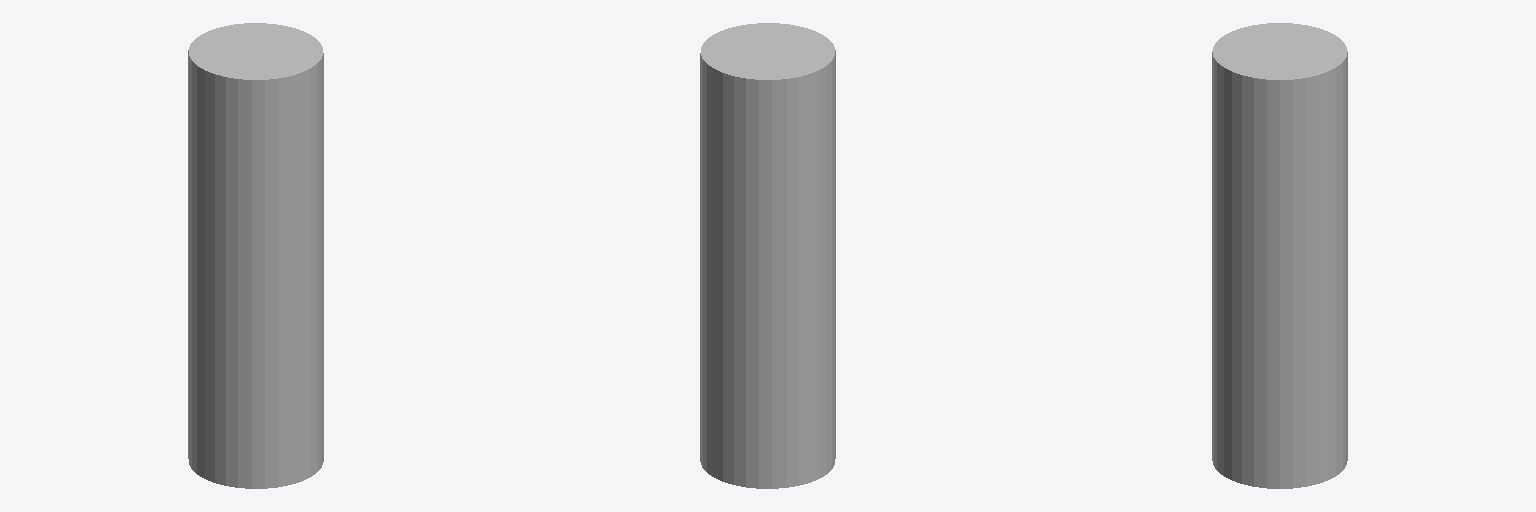
Rendered from sleeve.obj.
3 renders of one model, left to right at view 1: azimuth 30°, elevation 25°; view 2: azimuth 150°, elevation 25°; view 3: azimuth 270°, elevation 25°, orthographic.
Parts seen in each view (by area): view 1: 柱体.002; view 2: 柱体.002; view 3: 柱体.002.
Part boxes in pixels (left/top/right/bottom): 柱体.002: left=188, top=23, right=323, bottom=488; 柱体.002: left=700, top=23, right=835, bottom=488; 柱体.002: left=1212, top=23, right=1347, bottom=488.
Bounding box in the file's own units: 0.3 × 1 × 0.3.